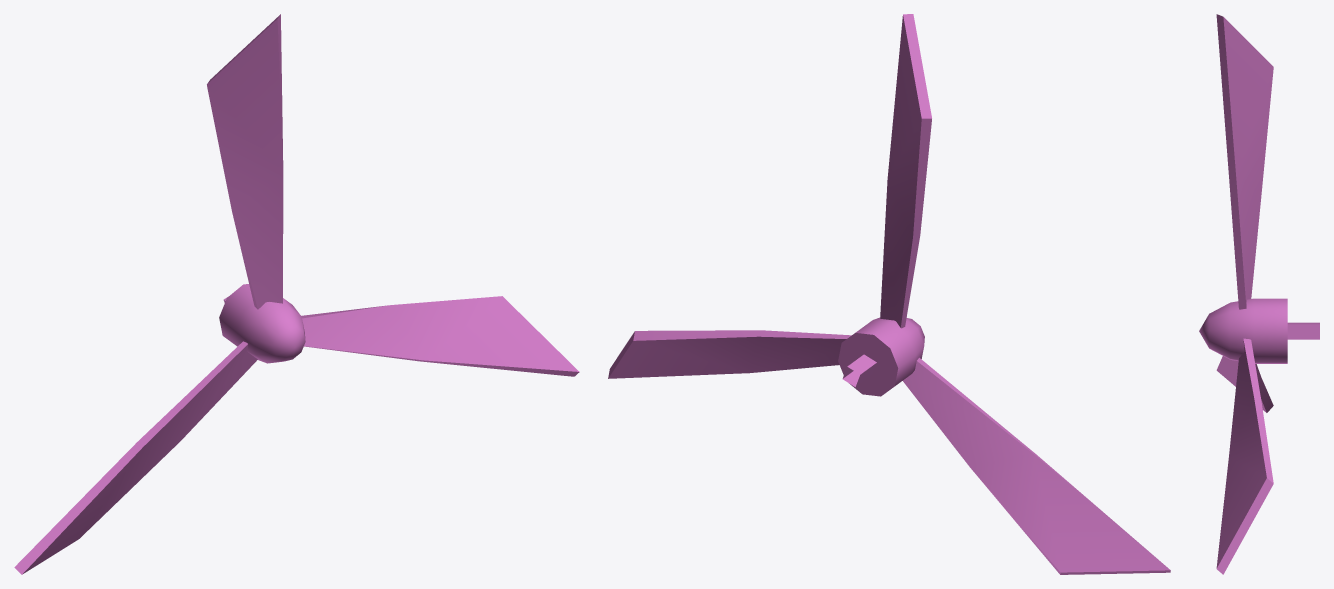
Rendered from WindTurbine_Propeller.fbx.
3 views of the same model, side by side, from view 1: azimuth 30°, elevation 25°; view 2: azimuth 150°, elevation 25°; view 3: azimuth 270°, elevation 25° (orthographic). The views are drawn at different scales.
Visible parts, largest first — view 1: WindTurbine_Propeller; view 2: WindTurbine_Propeller; view 3: WindTurbine_Propeller.
Part boxes in pixels (x1,y1,x2,y2): WindTurbine_Propeller: (14, 14, 579, 574); WindTurbine_Propeller: (608, 14, 1170, 574); WindTurbine_Propeller: (1199, 14, 1319, 574).
Size of the model in its own units: 1435 by 1215 by 277.
